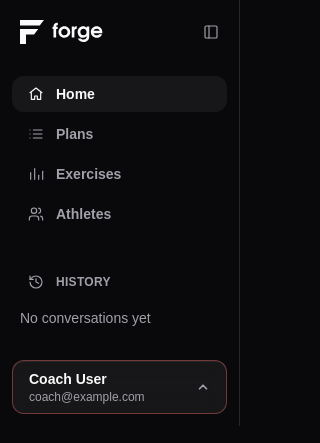
Sidebar › expands again from collapsed state
Click the button named "Collapse sidebar" at (211, 32), box [195, 16, 227, 48]
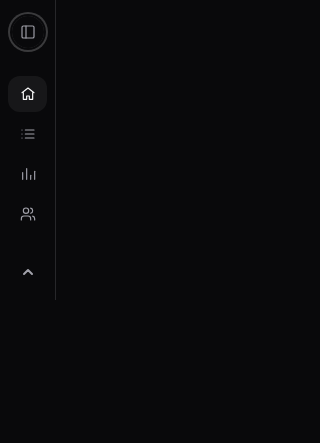
Click the button named "Expand sidebar" at (28, 32), box [12, 16, 44, 48]
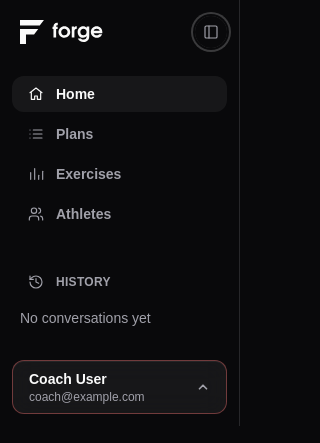
Result: the text "Coach User" is shown at [29, 371, 107, 387]
